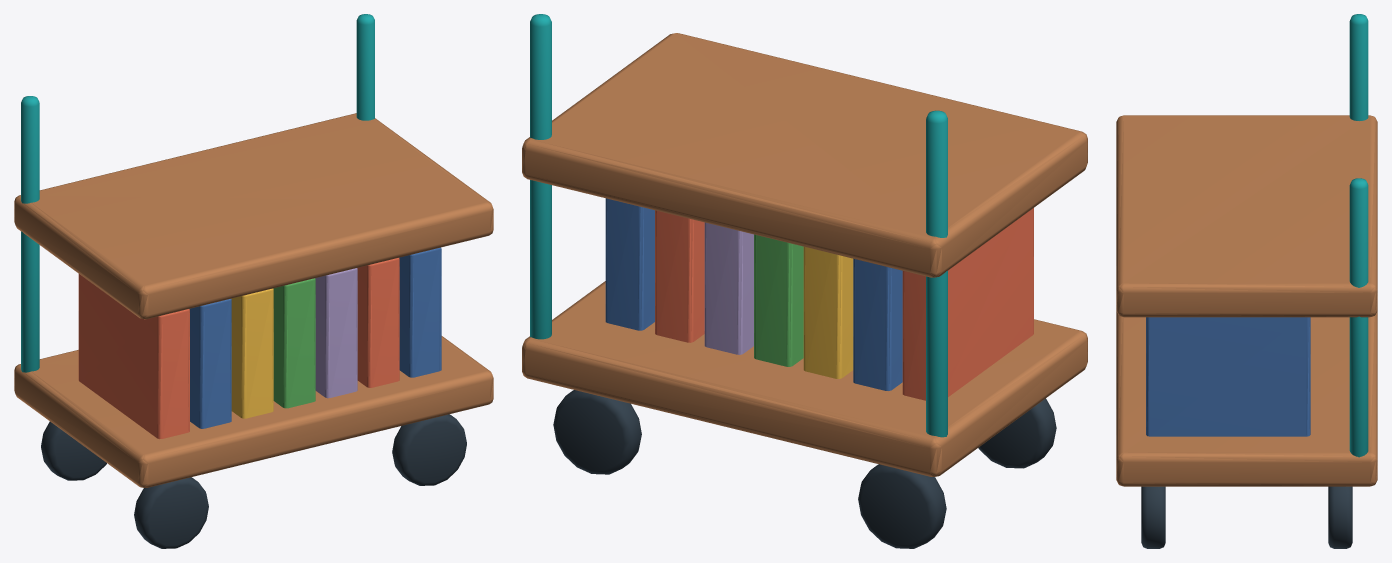
The model's file is BookCart.fbx.
The picture shows the model from 3 angles, left to right: view 1: azimuth 30°, elevation 25°; view 2: azimuth 150°, elevation 25°; view 3: azimuth 270°, elevation 25°; orthographic projection. The views are drawn at different scales.
Visible parts, largest first — view 1: GEO-Body; view 2: GEO-Body; view 3: GEO-Body.
Part boxes in pixels (x1,y1,x2,y2): GEO-Body: [14, 14, 493, 548]; GEO-Body: [522, 14, 1087, 548]; GEO-Body: [1116, 14, 1377, 548].
Size of the model in its own units: 1.1 by 1.13 by 0.7.
